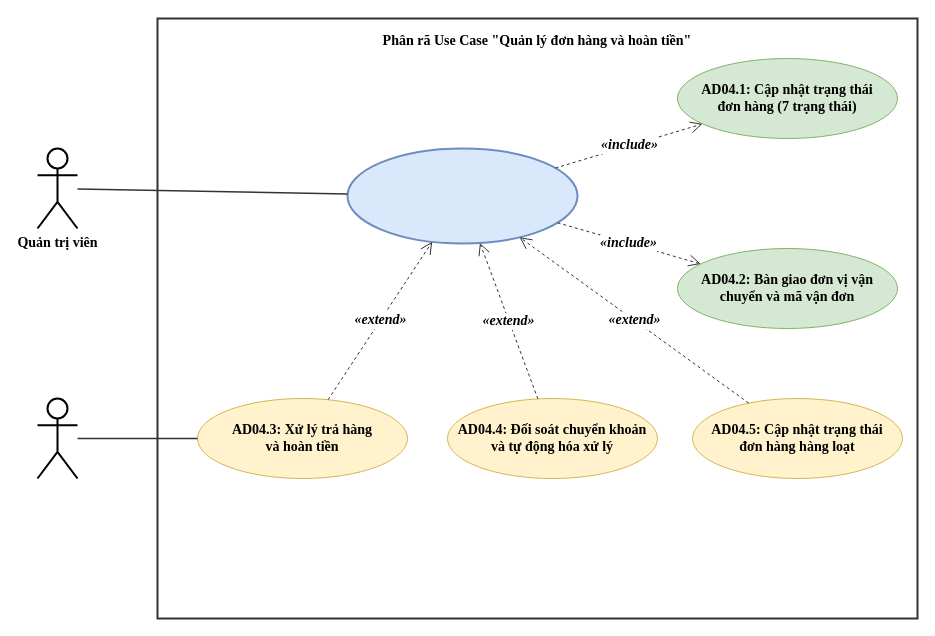
Image size: 935x636. Some labels were removed from this diagram. The centre of each missing label's shape, as x and y in pixels:
"AD04: Quản lý đơn hàng và hoàn tiền" goes at pixel 462 195.
"Khách hàng" goes at pixel 57 438.
